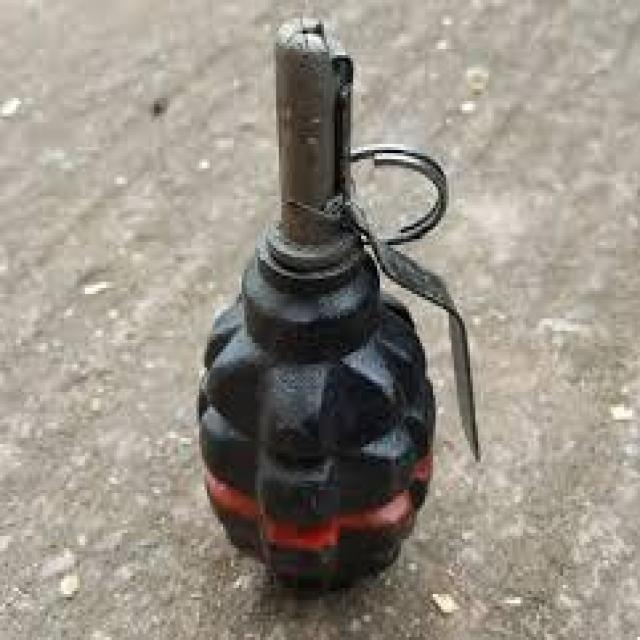Grenade: (191, 12, 481, 591)
